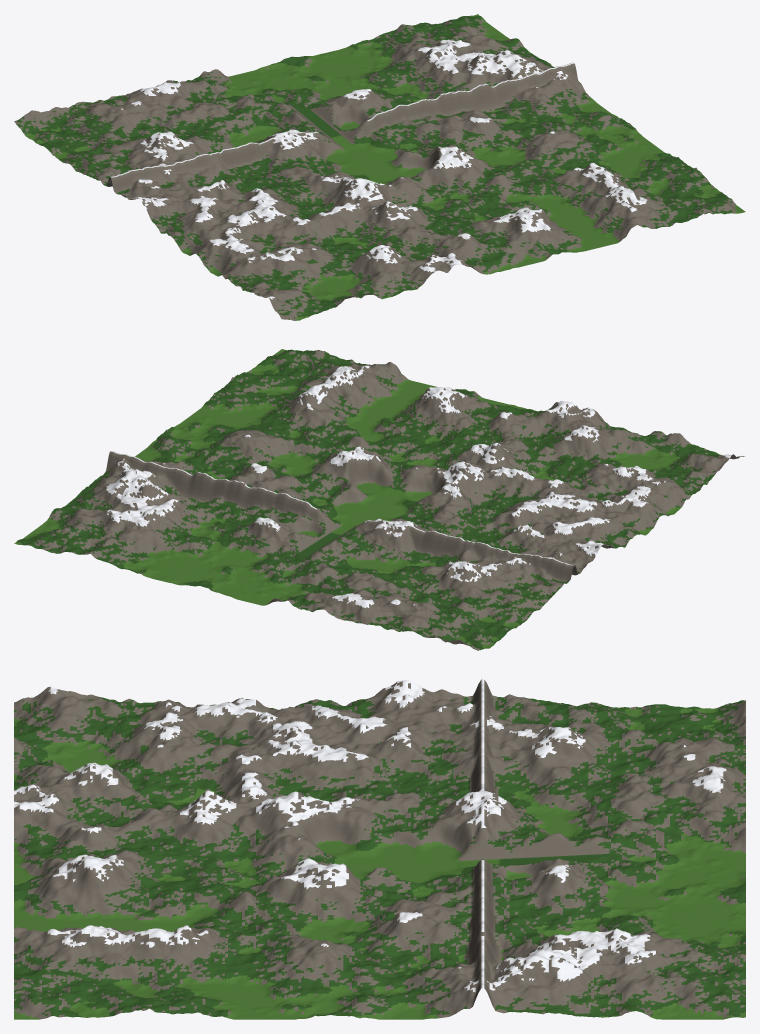
File: terrain.obj
The picture shows the model from 3 angles, top to bottom: view 1: azimuth 30°, elevation 25°; view 2: azimuth 150°, elevation 25°; view 3: azimuth 270°, elevation 25°; orthographic projection. The views are drawn at different scales.
Size of the model in its own units: 16000 by 924 by 16000.
